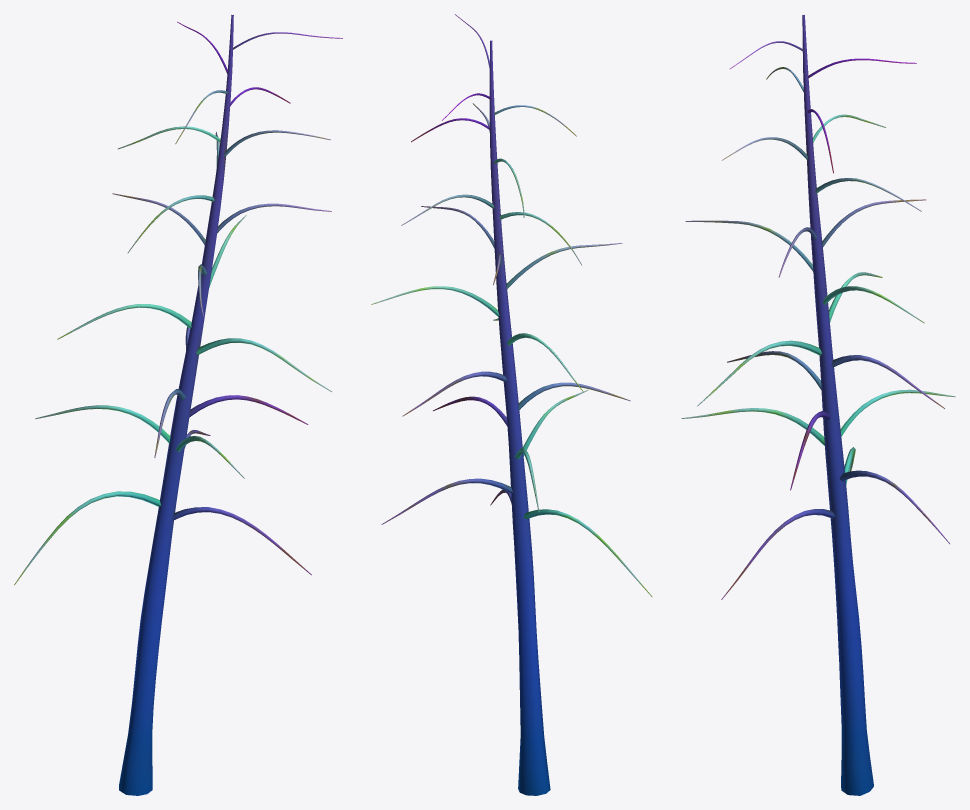
File: birch-grove-b.glb
3 views of the same model, side by side, from view 1: azimuth 30°, elevation 25°; view 2: azimuth 150°, elevation 25°; view 3: azimuth 270°, elevation 25° (orthographic). The views are drawn at different scales.
Visible parts, largest first — view 1: bark; view 2: bark; view 3: bark.
Boxes of the visible parts, box(x1,y1,x2,y2) form: bark: box(14, 14, 342, 795); bark: box(371, 14, 652, 795); bark: box(681, 15, 955, 795).
Bounding box in the file's own units: 5.44 × 14.22 × 4.36.
